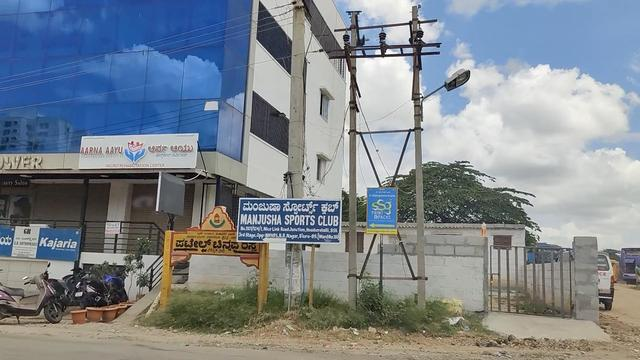RoadDamages: (132, 337, 182, 360)
